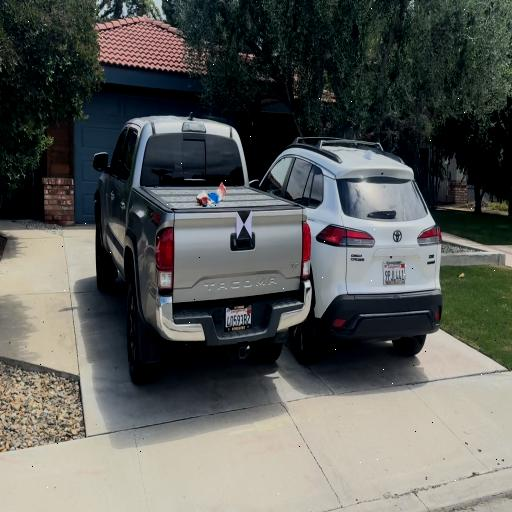target: (237, 212, 252, 239)
